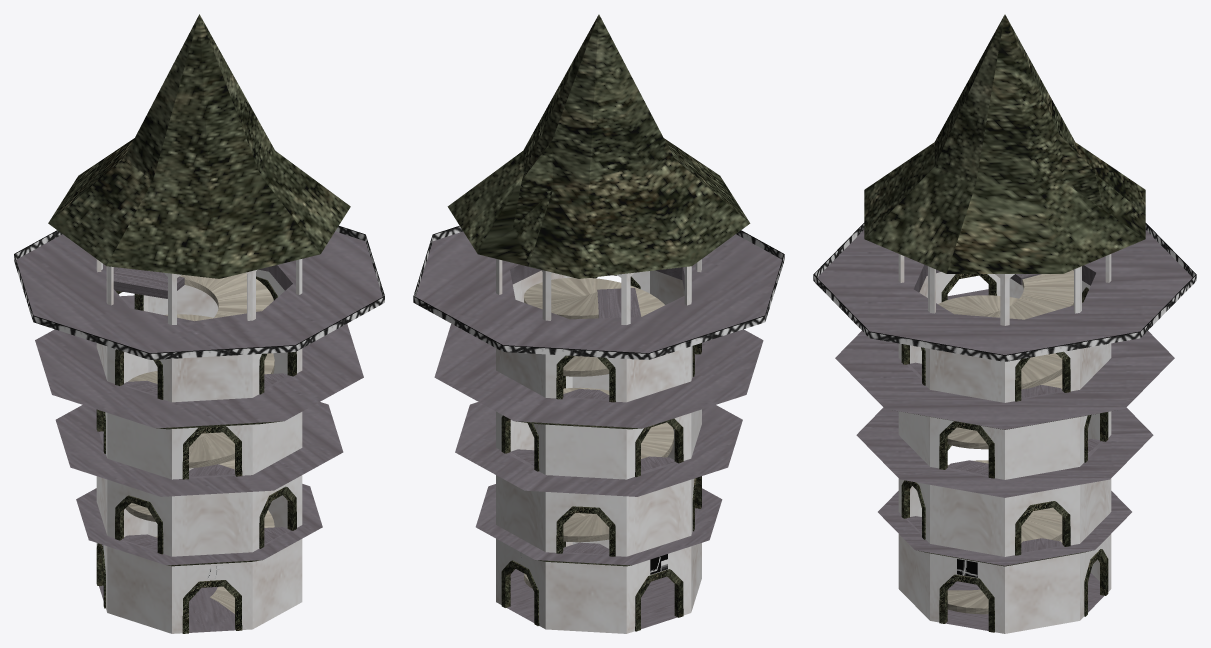
File: tower.fbx
3 renders of one model, left to right at view 1: azimuth 30°, elevation 25°; view 2: azimuth 150°, elevation 25°; view 3: azimuth 270°, elevation 25°, orthographic.
Parts seen in each view (by area): view 1: Cone, Tower, 5th floor, 4th floor, 3rd floor, Stairs, 2nd floor, Handrail, door_frames_a, door_frames_b, Tower.002, Cube; view 2: Cone, Tower, 5th floor, 4th floor, 3rd floor, Stairs, 2nd floor, Handrail, door_frames_b, Tower.002, door_frames_a, Cube; view 3: Cone, Tower, 5th floor, 4th floor, 3rd floor, Stairs, 2nd floor, Handrail, door_frames_a, door_frames_b, Tower.002.
Boxes of the visible parts, x1,y1,x2,y2 form: Cone: (48,14,350,278); Tower: (96,259,302,633); 5th floor: (16,231,382,353); 4th floor: (35,295,363,429); 3rd floor: (55,402,343,496); Stairs: (125,273,274,613); 2nd floor: (76,484,322,566); Handrail: (14,226,384,359); door_frames_a: (115,276,296,554); door_frames_b: (96,409,242,633); Tower.002: (99,585,235,632); Cube: (106,267,184,298); Cone: (447,14,750,278); Tower: (496,259,701,633); 5th floor: (415,231,781,353); 4th floor: (434,324,763,429); 3rd floor: (455,402,742,496); Stairs: (524,277,673,588); 2nd floor: (475,484,722,566); Handrail: (413,226,784,359); door_frames_b: (501,376,683,631); Tower.002: (507,569,677,628); door_frames_a: (556,275,701,556); Cube: (597,287,641,318); Cone: (864,14,1145,273); Tower: (898,254,1111,633); 5th floor: (817,230,1192,354); 4th floor: (835,289,1174,429); 3rd floor: (856,407,1153,497); Stairs: (938,270,1073,614); 2nd floor: (878,491,1131,566); Handrail: (813,223,1196,361); door_frames_a: (901,274,1088,555); door_frames_b: (939,412,1108,632); Tower.002: (946,573,1104,630).
Size of the model in its own units: 4509 by 7546 by 4509.
